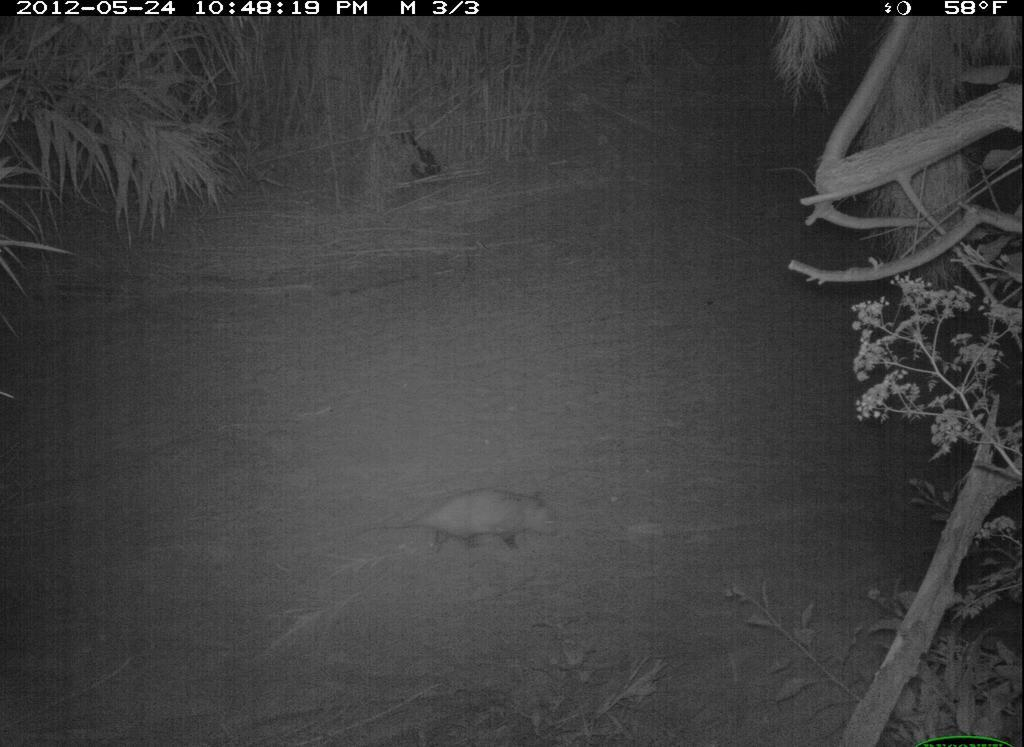opossum: (360, 466, 570, 574)
